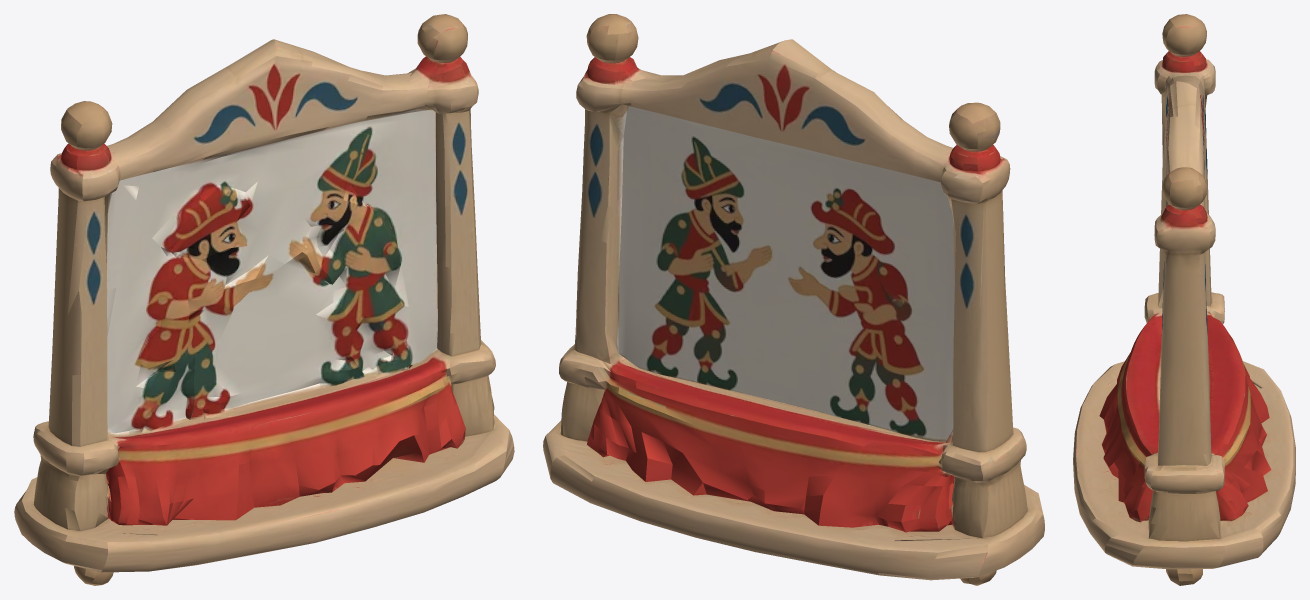
File: karagoz.glb
3 views of the same model, side by side, from view 1: azimuth 30°, elevation 25°; view 2: azimuth 150°, elevation 25°; view 3: azimuth 270°, elevation 25° (orthographic). The views are drawn at different scales.
Parts seen in each view (by area): view 1: Mesh0; view 2: Mesh0; view 3: Mesh0.
Boxes of the visible parts, x1,y1,x2,y2 form: Mesh0: (14, 14, 514, 585); Mesh0: (543, 14, 1044, 585); Mesh0: (1073, 14, 1295, 585).
Size of the model in its own units: 1.84 by 1.9 by 0.8837.
1 material, 1 textured.
